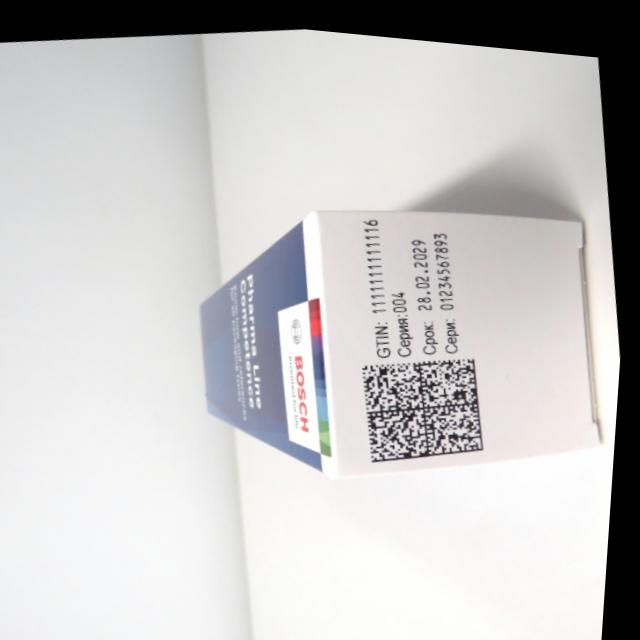datamatrix: (357, 338, 500, 469)
